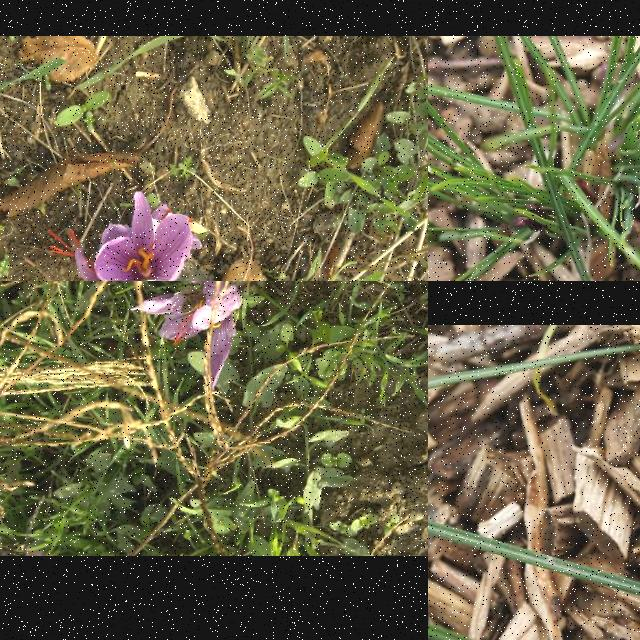flower: (130, 281, 242, 390)
overlap: (49, 191, 195, 281)
